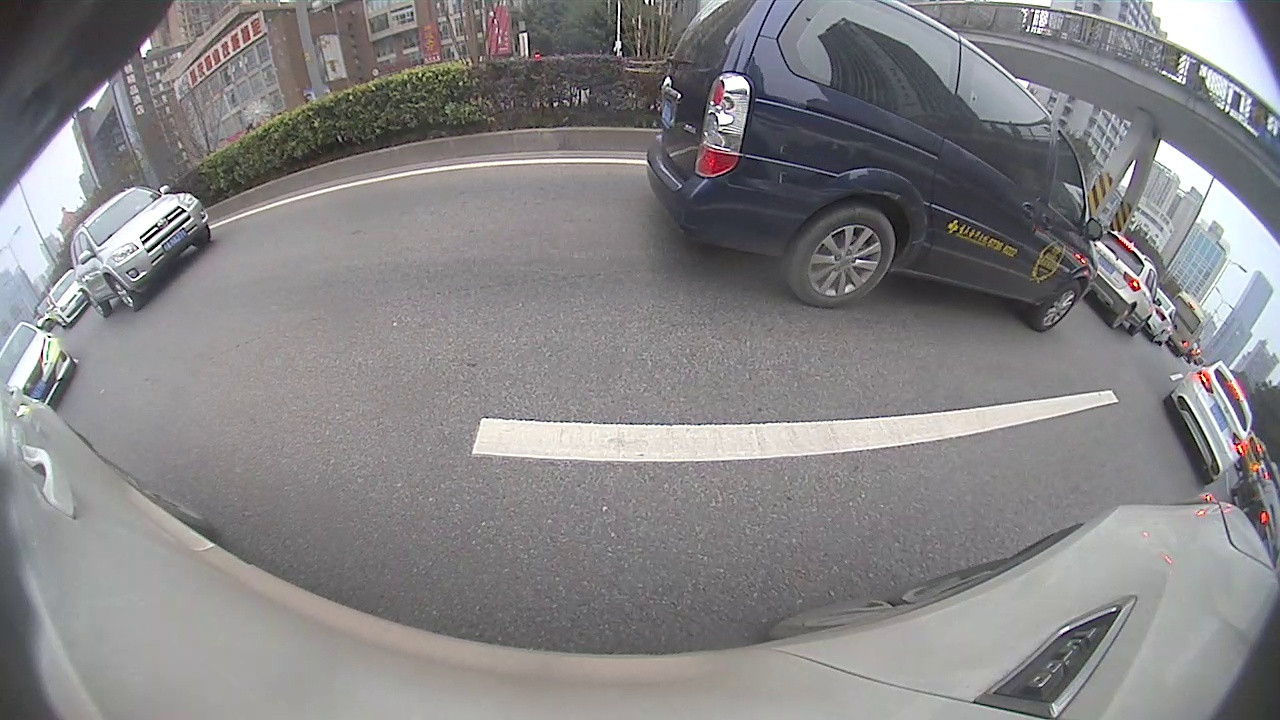car: (644, 1, 1106, 336), (70, 183, 213, 317), (1162, 360, 1253, 486), (1076, 229, 1158, 332)
front: (1032, 282, 1086, 330), (103, 275, 140, 311)
rear: (785, 202, 894, 303)
